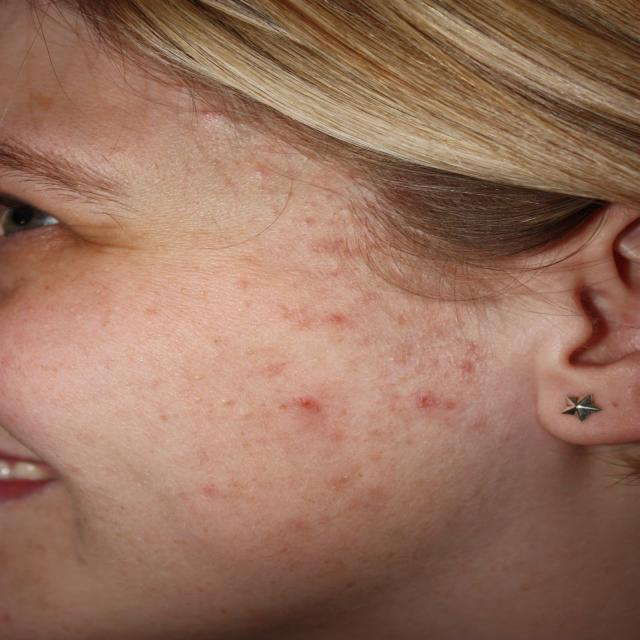acne: (181, 77, 369, 217), (244, 469, 441, 577), (412, 327, 543, 433), (256, 359, 345, 434), (292, 288, 379, 352)
